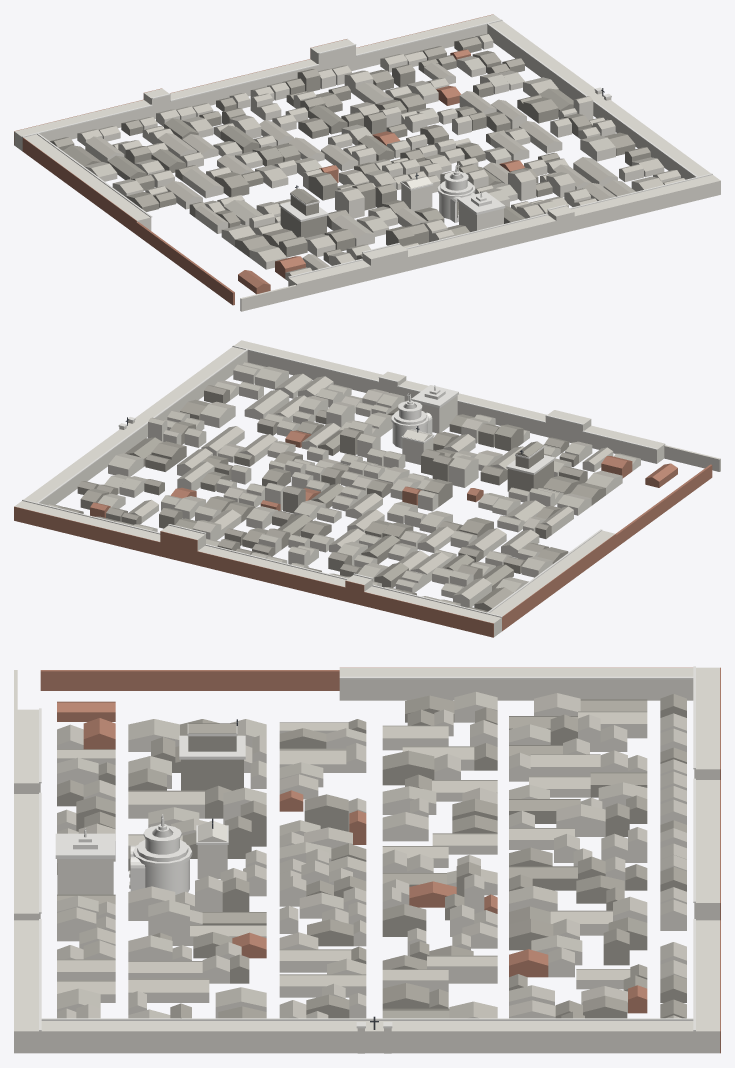
Rendered from nola-st-louis-cemetery-1.glb.
The picture shows the model from 3 angles, top to bottom: view 1: azimuth 30°, elevation 25°; view 2: azimuth 150°, elevation 25°; view 3: azimuth 270°, elevation 25°; orthographic projection. The views are drawn at different scales.
Visible parts, largest first — view 1: St. Louis Cemetery No. 1; view 2: St. Louis Cemetery No. 1; view 3: St. Louis Cemetery No. 1.
Part boxes in pixels (x1,y1,x2,y2): St. Louis Cemetery No. 1: (14,14,720,311); St. Louis Cemetery No. 1: (14,340,720,637); St. Louis Cemetery No. 1: (14,666,720,1053).
Bounding box in the file's own units: 104 × 10 × 85.1.
